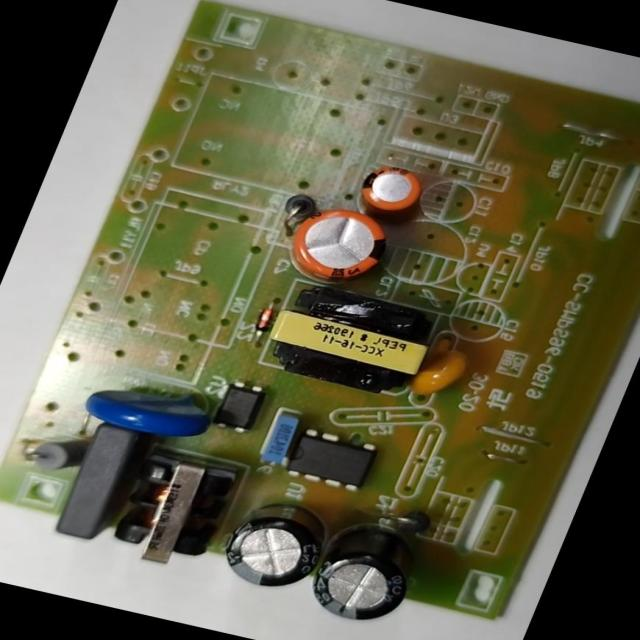Cap1: (262, 192, 412, 297)
Cap2: (338, 148, 443, 227)
Cap3: (204, 484, 342, 600)
Cap4: (292, 497, 442, 634)
MOSFET: (271, 421, 387, 496)
Mov: (67, 365, 227, 450)
Resistor: (12, 420, 98, 482)
Transformer: (250, 272, 462, 403), (95, 437, 249, 578)
